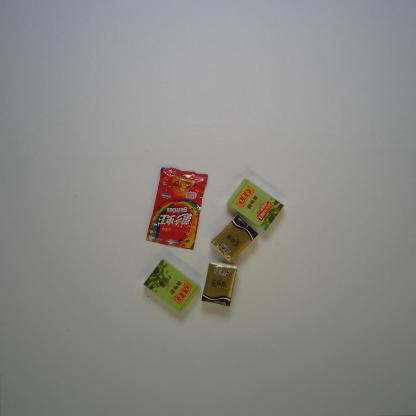Candy: (145, 167, 209, 251), (142, 257, 202, 315), (225, 177, 285, 232)
Tissue: (210, 213, 258, 264), (200, 260, 238, 308)
